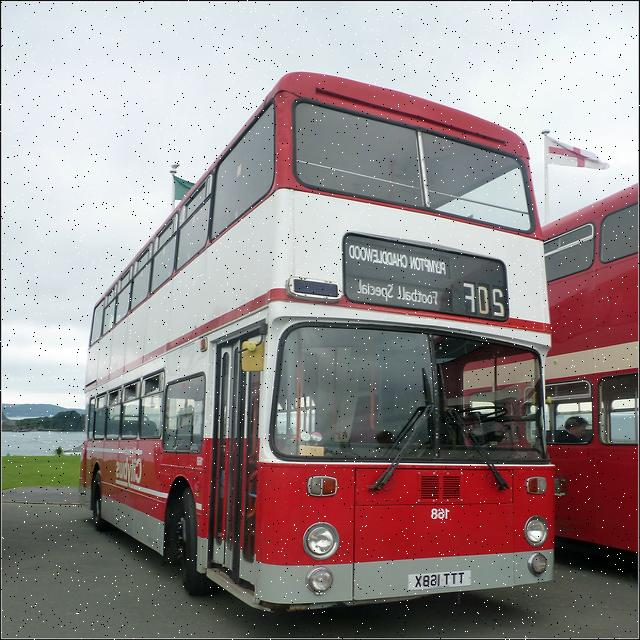Bus: (83, 72, 556, 605), (460, 185, 639, 547)
